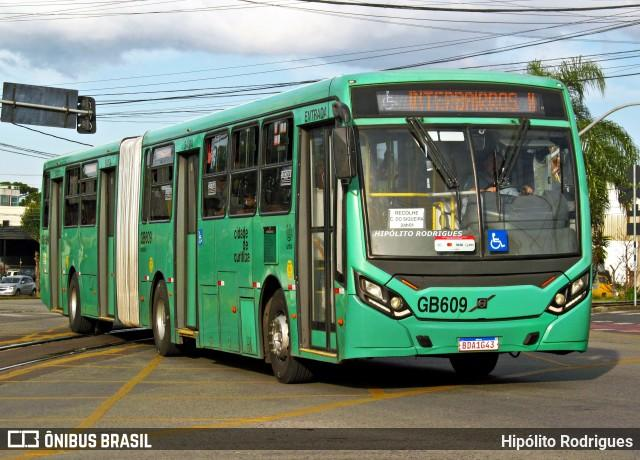INTERBAIRROS II: (405, 86, 542, 117)
